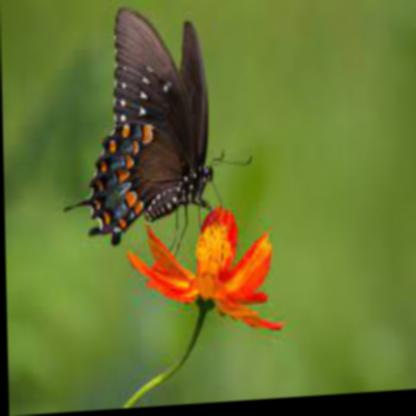Butterfly: (60, 2, 240, 250)
